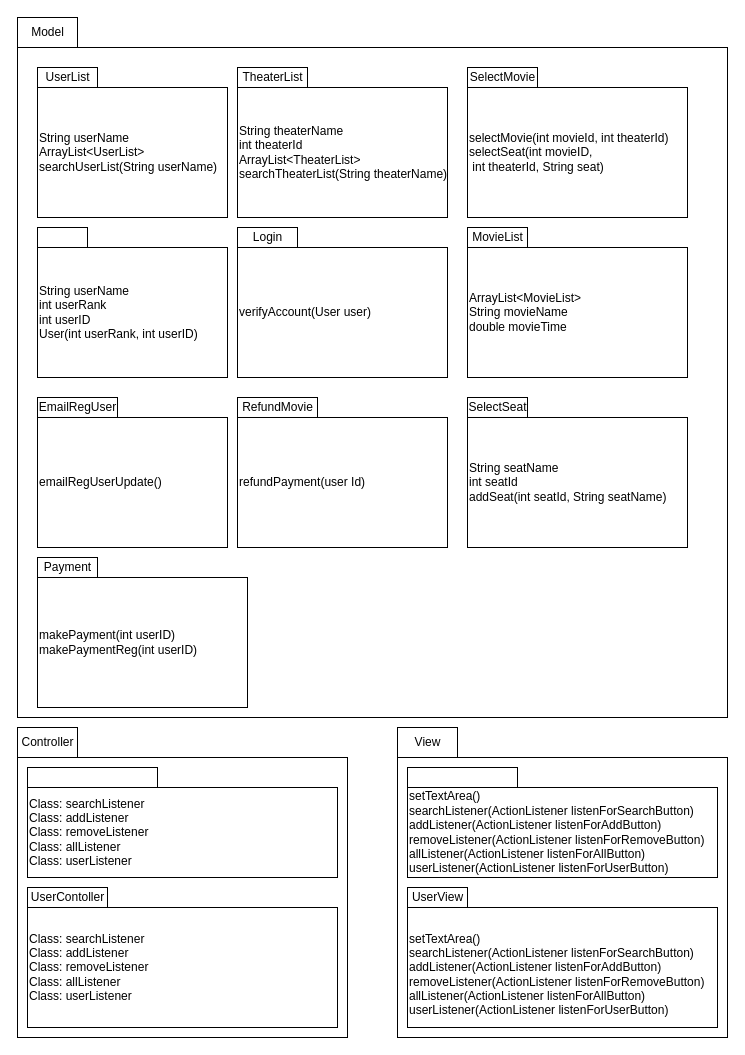
Some shapes in this 745 by 1055 pixel diagram are drawn without their labels. The centre of each missing label's shape, as x and y in pixels:
RegisterdUserContoller: the point at 92,777
RegisteredUserView: the point at 462,777
User: the point at 62,237
